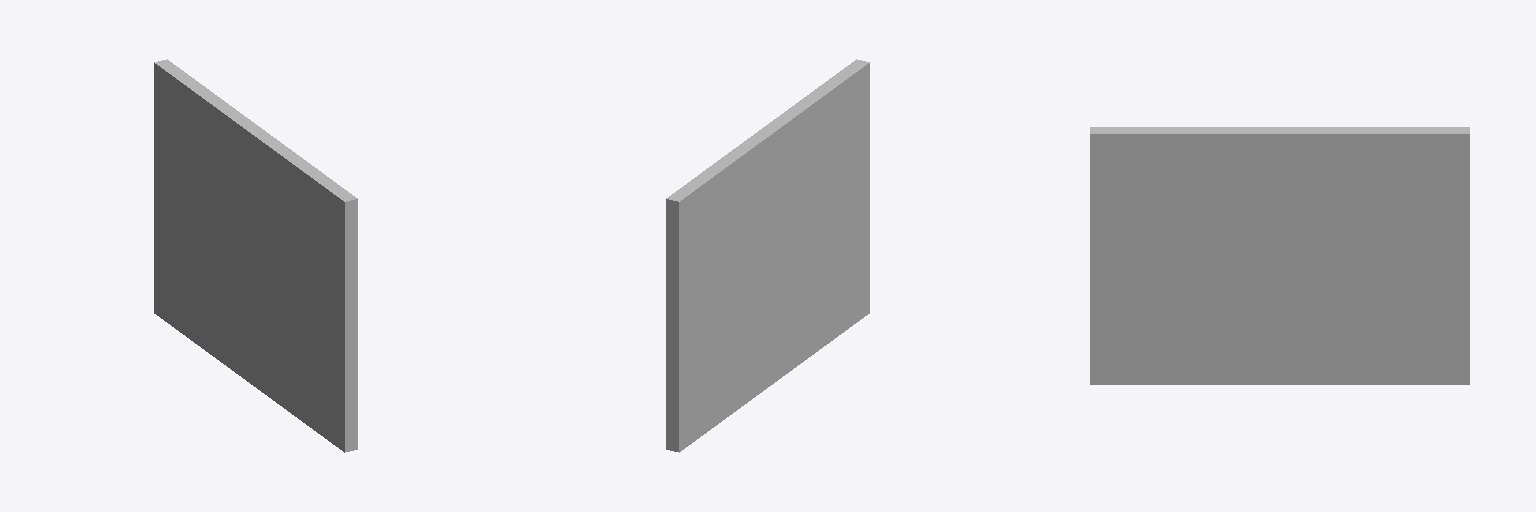
The model's file is MirrorObject.obj.
The picture shows the model from 3 angles: view 1: azimuth 30°, elevation 25°; view 2: azimuth 150°, elevation 25°; view 3: azimuth 270°, elevation 25°; orthographic projection.
Parts seen in each view (by area): view 1: Cube.005; view 2: Cube.005; view 3: Cube.005.
Part boxes in pixels (x1,y1,x2,y2): Cube.005: (154, 59, 357, 452); Cube.005: (666, 59, 869, 452); Cube.005: (1090, 127, 1469, 384).
Bounding box in the file's own units: 12 × 218 × 300.